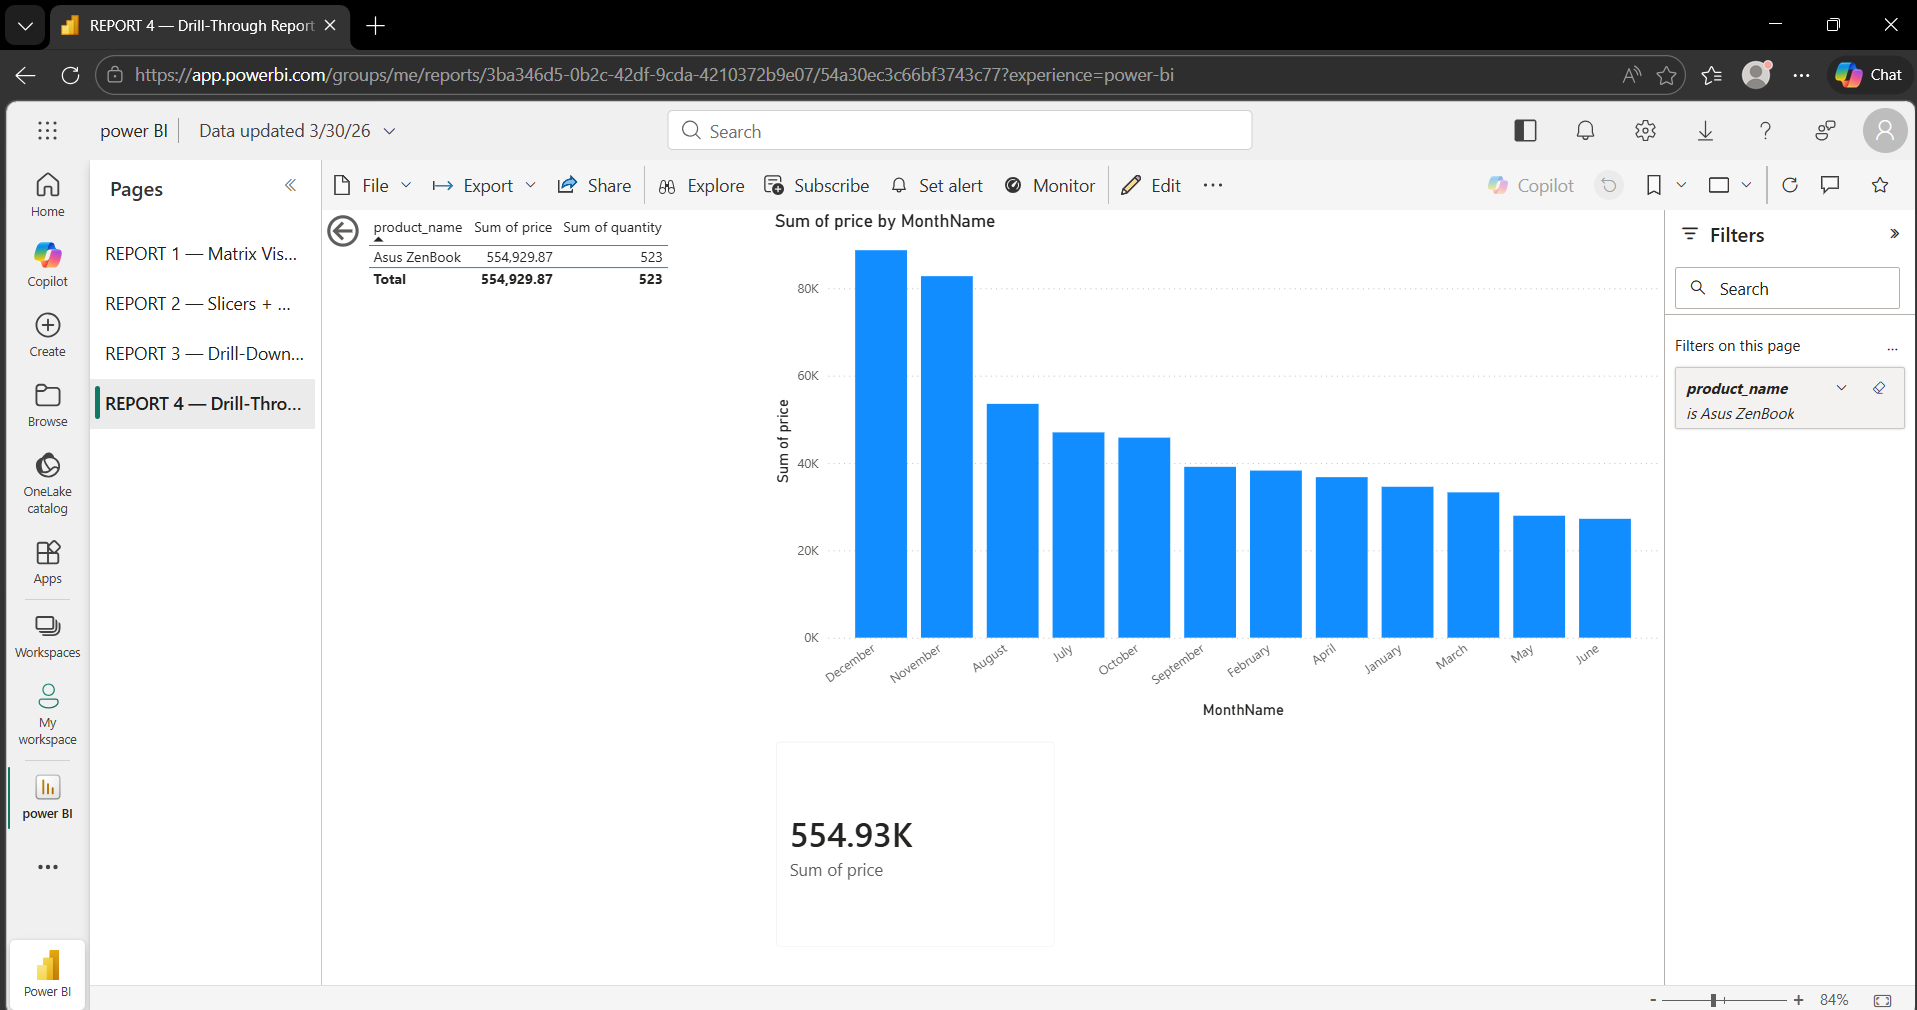

This screenshot's page, from the dashboard's own definition file:
{"tool":"powerbi","page":{"name":"REPORT 4 — Drill-Through Report","canvas":[1280,720],"ordinal":3},"visuals":[{"type":"actionButton","box":[0,0,100,40],"z":0},{"type":"tableEx","fields":{"Values":["DimProduct.product_name","Sum(FactSales.price)","Sum(FactSales.quantity)"]},"box":[38.6,0,388.6,720],"z":1000},{"type":"cardVisual","fields":{"Data":["Sum(FactSales.price)"]},"box":[415.7,490,300,230],"z":1001},{"type":"lineClusteredColumnComboChart","fields":{"Y":["Sum(FactSales.price)"],"Category":["DimDate.MonthName"]},"box":[427.1,0,852.9,490],"z":1002}]}

Visuals, with their boxes on the page's 1280x720 design canvas (x1, y1, x2, y2). These are canvas units, not pixel positions in the 1917x1010 screenshot, which may show the page scaled, cropped or inside an application window:
actionButton: [x1=0, y1=0, x2=100, y2=40]
tableEx - DimProduct.product_name x Sum(FactSales.price): [x1=39, y1=0, x2=427, y2=720]
cardVisual - Sum(FactSales.price): [x1=416, y1=490, x2=716, y2=720]
lineClusteredColumnComboChart - Sum(FactSales.price) x DimDate.MonthName: [x1=427, y1=0, x2=1280, y2=490]
